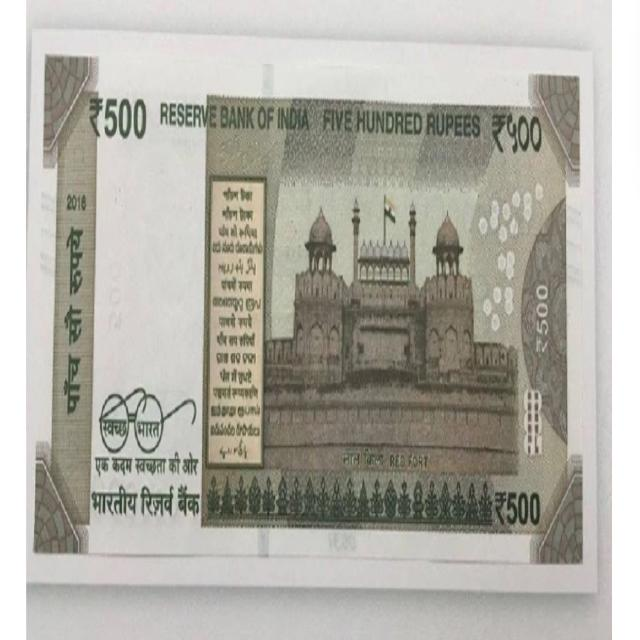500IndianRupees: (35, 29, 599, 588)
